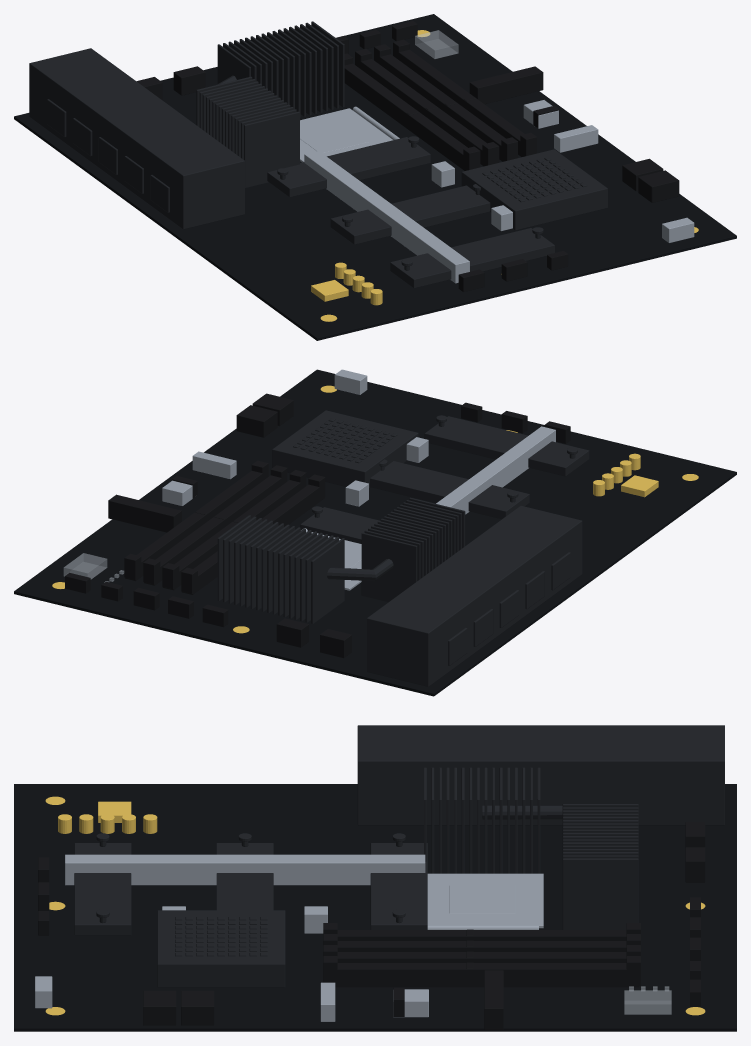
File: motherboard.lod0.glb
3 views of the same model, one above another, from view 1: azimuth 30°, elevation 25°; view 2: azimuth 150°, elevation 25°; view 3: azimuth 270°, elevation 25° (orthographic). The views are drawn at different scales.
Parts seen in each view (by area): view 1: P15_pcb_substrate, P07_rear_io_shield, P02_vrm_heatsinks, P05_m2_thermal_shields, P03_dimm_slots, P06_chipset_heatsink, P04_pcie_x16_slots, P01_cpu_socket_lga, P09_power_headers, P12_front_panel_io, P13_sata_ports, P08_audio_section (+3 smaller); view 2: P15_pcb_substrate, P07_rear_io_shield, P02_vrm_heatsinks, P03_dimm_slots, P05_m2_thermal_shields, P06_chipset_heatsink, P04_pcie_x16_slots, P09_power_headers, P10_fan_pump_headers, P12_front_panel_io, P13_sata_ports, P08_audio_section (+3 smaller); view 3: P15_pcb_substrate, P07_rear_io_shield, P03_dimm_slots, P02_vrm_heatsinks, P05_m2_thermal_shields, P04_pcie_x16_slots, P06_chipset_heatsink, P01_cpu_socket_lga, P09_power_headers, P13_sata_ports, P12_front_panel_io, P08_audio_section (+4 smaller).
Part boxes in pixels (box(x1,y1,x2,y2)): P15_pcb_substrate: box(14, 14, 736, 340); P07_rear_io_shield: box(29, 48, 244, 229); P02_vrm_heatsinks: box(196, 21, 344, 187); P05_m2_thermal_shields: box(267, 136, 554, 288); P03_dimm_slots: box(344, 39, 536, 170); P06_chipset_heatsink: box(461, 149, 607, 230); P04_pcie_x16_slots: box(304, 151, 512, 283); P01_cpu_socket_lga: box(300, 106, 399, 162); P09_power_headers: box(136, 66, 543, 104); P12_front_panel_io: box(523, 100, 694, 242); P13_sata_ports: box(622, 158, 679, 202); P08_audio_section: box(311, 262, 382, 305); P15_pcb_substrate: box(14, 369, 736, 696); P07_rear_io_shield: box(367, 505, 582, 686); P02_vrm_heatsinks: box(217, 497, 465, 623); P03_dimm_slots: box(124, 460, 325, 594); P05_m2_thermal_shields: box(300, 415, 589, 543); P06_chipset_heatsink: box(272, 410, 418, 488); P04_pcie_x16_slots: box(345, 426, 555, 514); P09_power_headers: box(108, 494, 351, 658); P10_fan_pump_headers: box(133, 411, 570, 627); P12_front_panel_io: box(162, 369, 367, 505); P13_sata_ports: box(236, 393, 293, 437); P08_audio_section: box(593, 453, 658, 497); P15_pcb_substrate: box(14, 784, 736, 1031); P07_rear_io_shield: box(357, 725, 724, 825); P03_dimm_slots: box(323, 923, 640, 987); P02_vrm_heatsinks: box(424, 767, 638, 929); P05_m2_thermal_shields: box(74, 833, 427, 935); P04_pcie_x16_slots: box(65, 854, 425, 933); P06_chipset_heatsink: box(157, 910, 285, 987); P01_cpu_socket_lga: box(427, 873, 543, 929); P09_power_headers: box(484, 822, 705, 1029); P13_sata_ports: box(143, 990, 214, 1025); P12_front_panel_io: box(35, 976, 428, 1021); P08_audio_section: box(58, 801, 157, 833).
Bounding box in the file's own units: 246 × 36.4 × 305.
